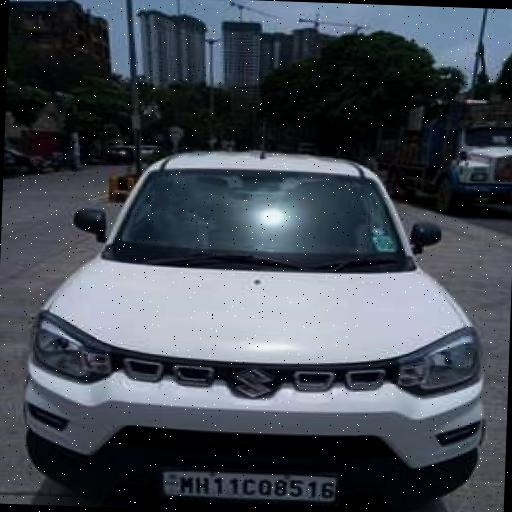license_plate`: (160, 466, 336, 500)
